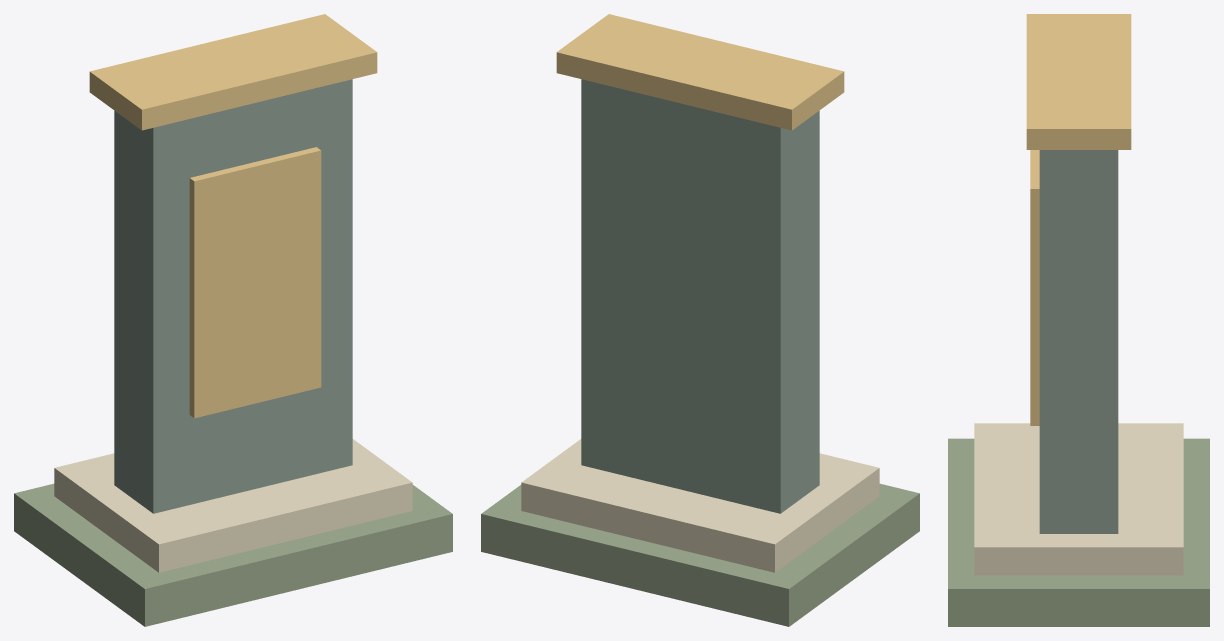
The model's file is bia-tri-an-minh-hoa.glb.
The picture shows the model from 3 angles, left to right: view 1: azimuth 30°, elevation 25°; view 2: azimuth 150°, elevation 25°; view 3: azimuth 270°, elevation 25°; orthographic projection.
Visible parts, largest first — view 1: bia-tri-an-minh-hoa.glb; view 2: bia-tri-an-minh-hoa.glb; view 3: bia-tri-an-minh-hoa.glb.
Part boxes in pixels (x1=…): bia-tri-an-minh-hoa.glb: x1=14, y1=14, x2=452, y2=626; bia-tri-an-minh-hoa.glb: x1=481, y1=14, x2=919, y2=626; bia-tri-an-minh-hoa.glb: x1=948, y1=14, x2=1209, y2=626.
Size of the model in its own units: 0.34 by 0.506 by 0.25.
